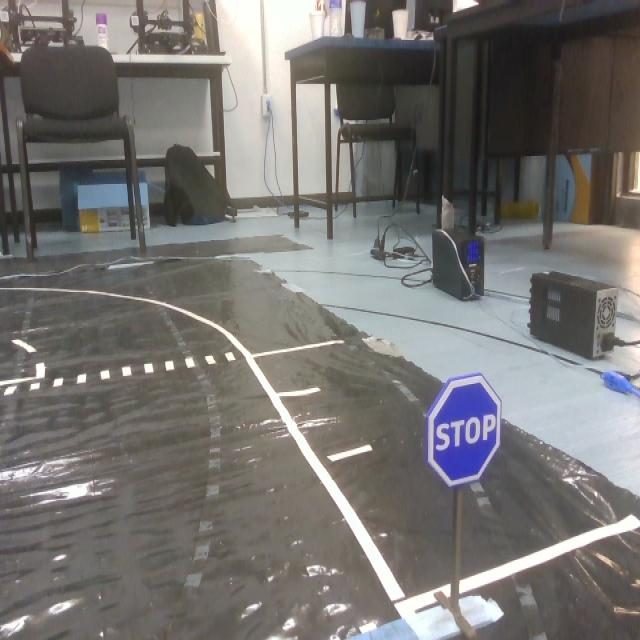no_entry: (428, 374, 506, 489)
